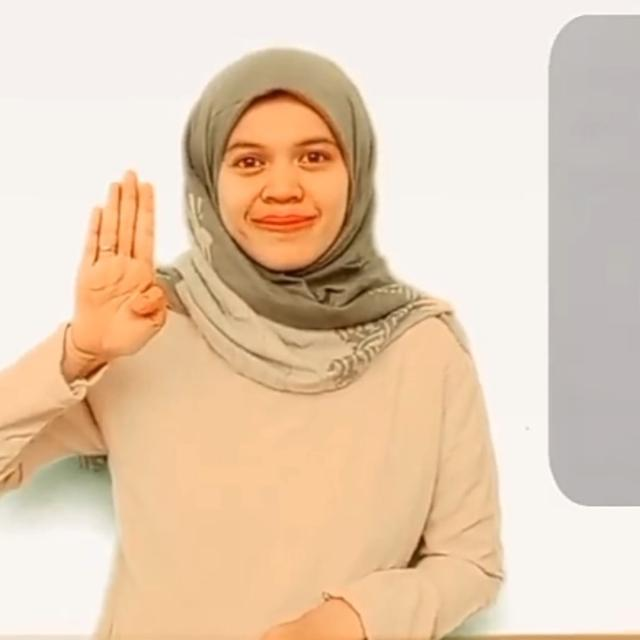B: (72, 165, 172, 363)
